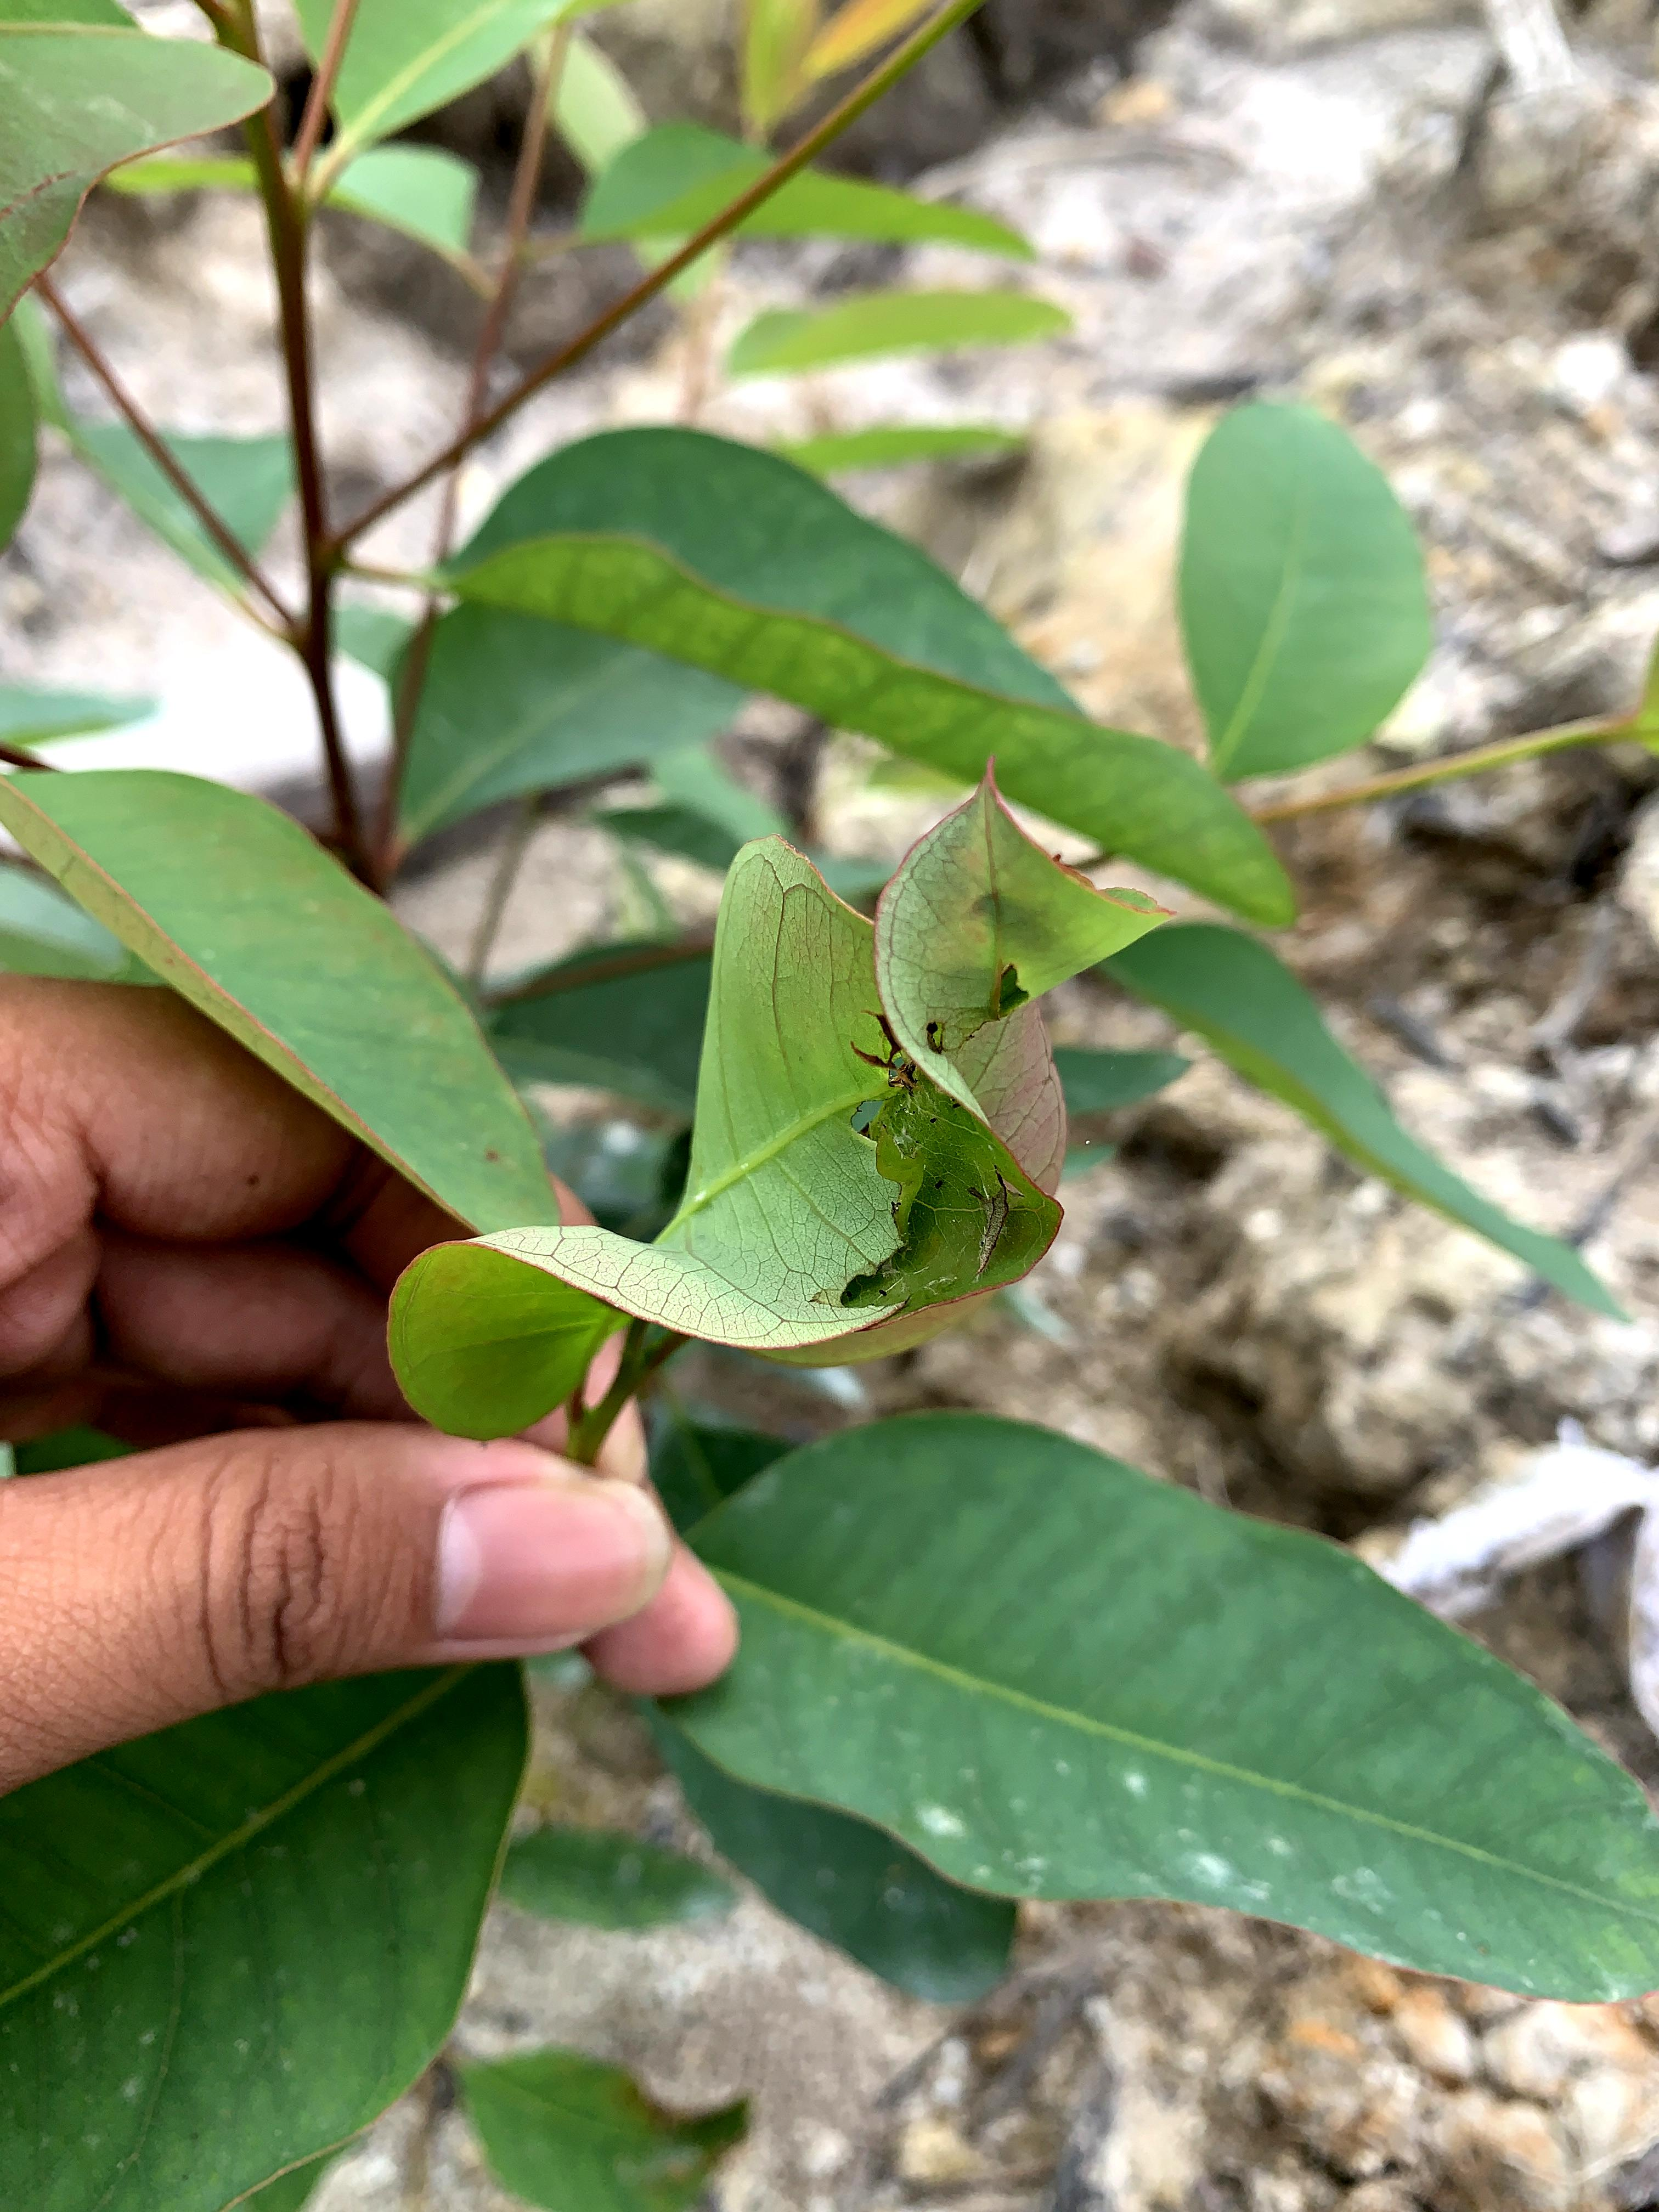Leaf Roller - Leaf: (464, 796, 1093, 1458)
